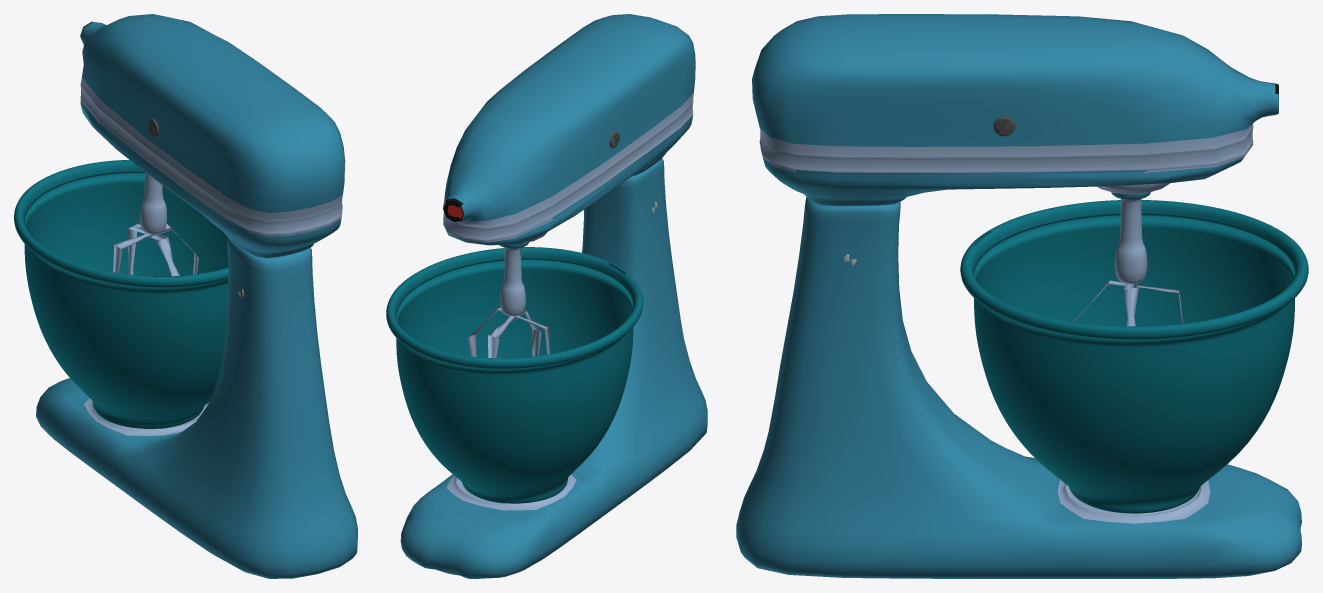
File: mixer.fbx
3 views of the same model, side by side, from view 1: azimuth 30°, elevation 25°; view 2: azimuth 150°, elevation 25°; view 3: azimuth 270°, elevation 25° (orthographic). The views are drawn at different scales.
Parts seen in each view (by area): view 1: DoughMixer, mixer.001; view 2: DoughMixer, mixer.001; view 3: DoughMixer, mixer.001.
Part boxes in pixels (x1=…): DoughMixer: x1=36, y1=14, x2=357, y2=578; mixer.001: x1=14, y1=160, x2=228, y2=428; DoughMixer: x1=400, y1=14, x2=707, y2=578; mixer.001: x1=386, y1=247, x2=643, y2=503; DoughMixer: x1=736, y1=14, x2=1301, y2=578; mixer.001: x1=960, y1=200, x2=1308, y2=513.
Size of the model in its own units: 34.17 by 63.11 by 63.06.
